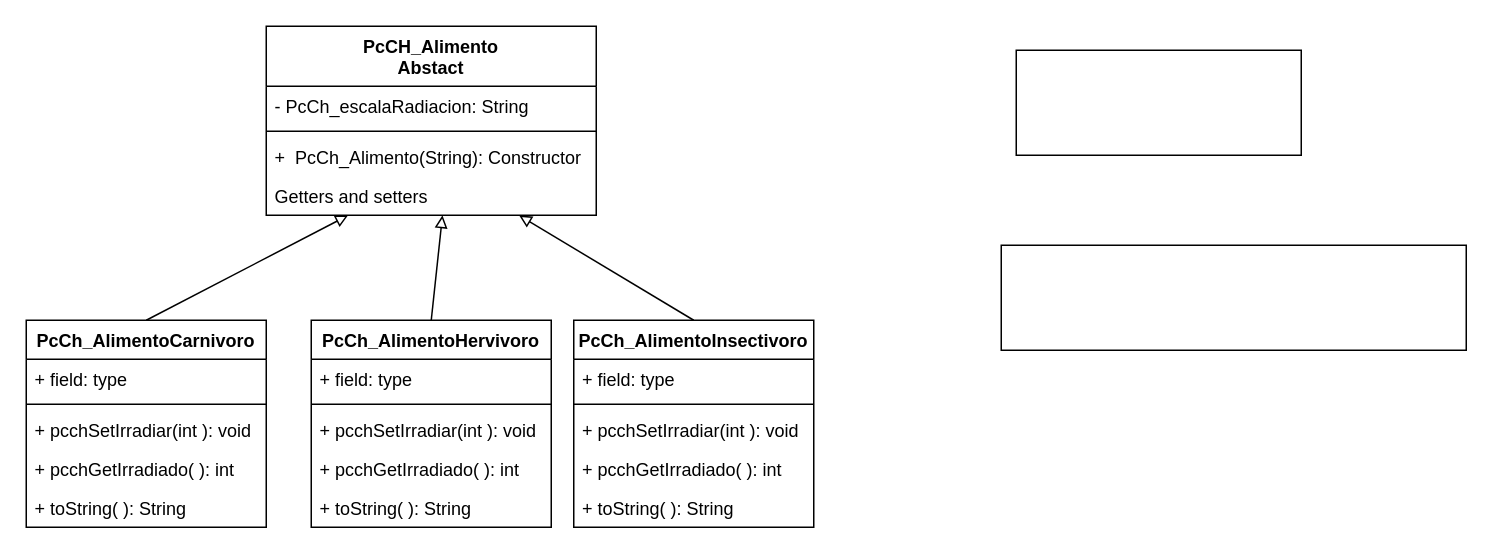
This 1493x558 diagram has some shape labels left out. The centre of each missing label's shape, as x and y in pixels:
<<Interface>> ChIHormigaLava + ChRealizarMetamorfosis(PcCh_Alimento): PcHormiga: the point at 1233,297
<<Interface>> PcCh_IAlimentoRadiactivo + pcchSetIrradiar(int): void: the point at 1158,102
